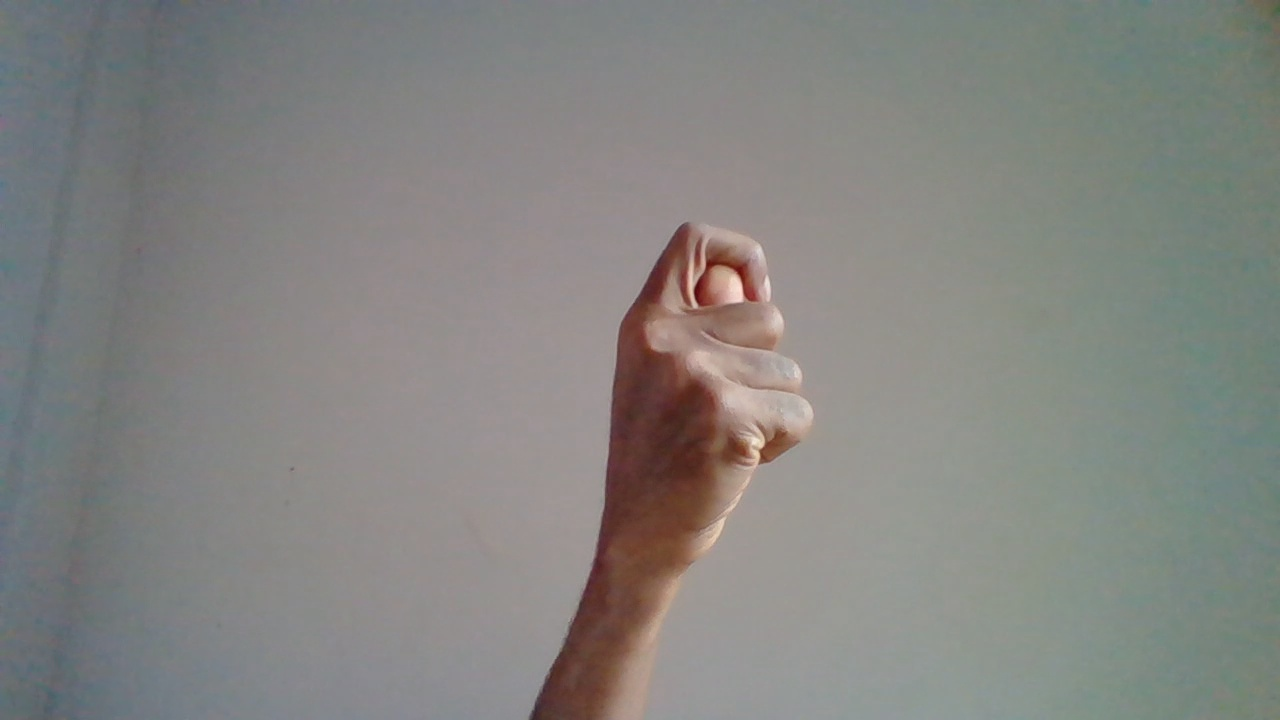che: (599, 219, 815, 657)
